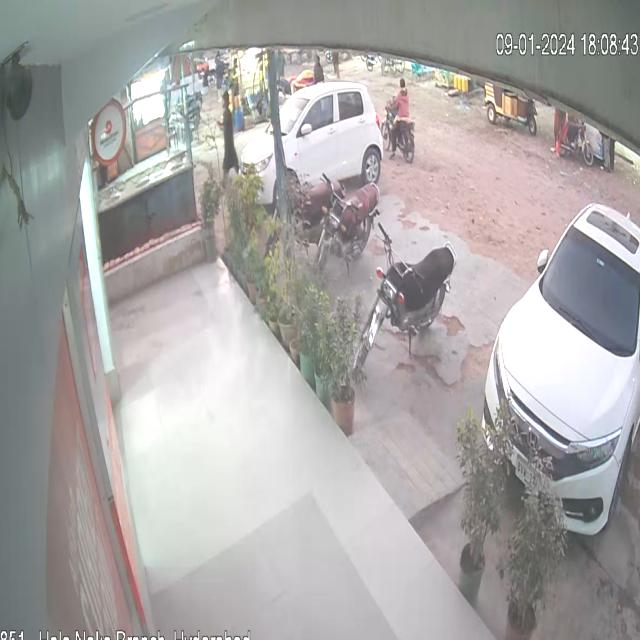Car: (479, 156, 640, 548), (218, 69, 386, 193)
Motorcycle: (352, 212, 466, 378), (318, 172, 386, 266), (386, 66, 416, 167)
